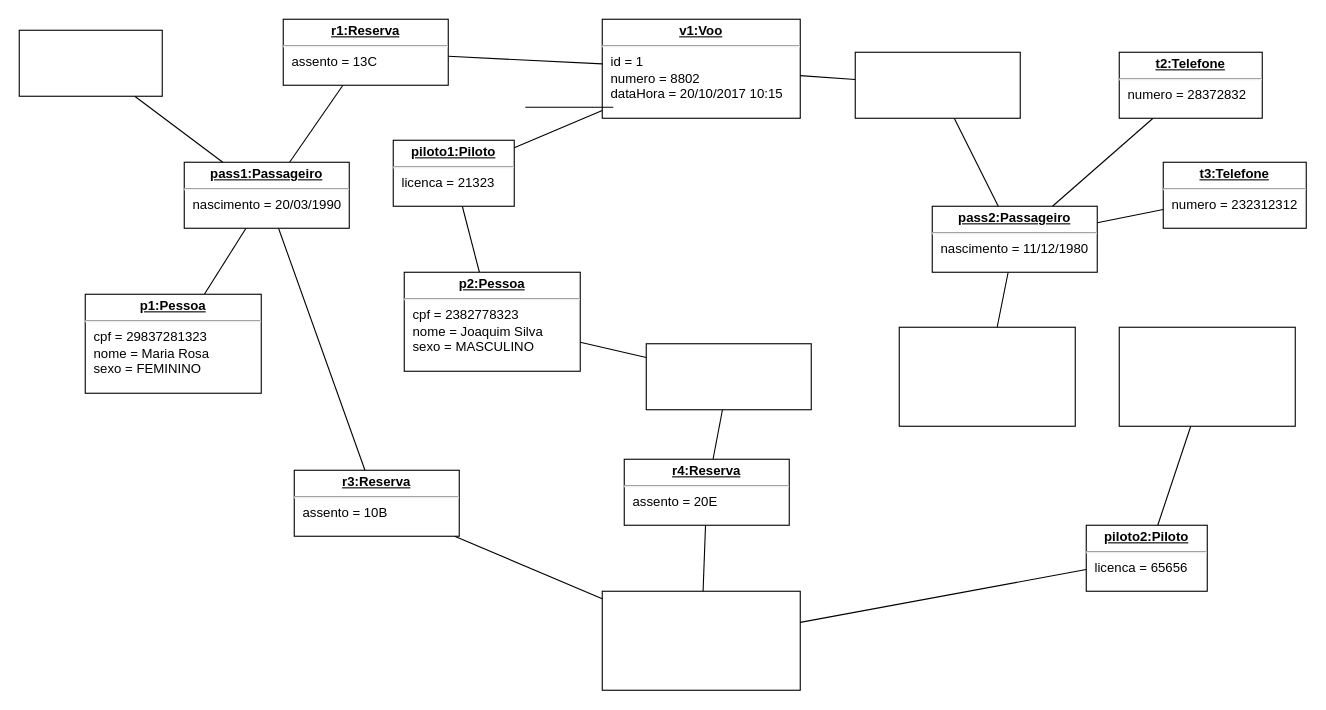
Some shapes in this 1326 by 710 pixel diagram are drawn without their labels. Here are the shapes that lost their labels. From the top down, the centre of each, then its label:
At pixel 90 62: "t1:Telefone numero = 23232323".
At pixel 937 84: "r2:Reserva assento = 15A".
At pixel 728 376: "pass3:Passageiro nascimento = 21/02/1978".
At pixel 986 376: "p3:Pessoa cpf = 2387627323 nome = Carlos Alberto sexo = MASCULINO".
At pixel 1206 376: "p4:Pessoa cpf = 287382732323 nome = Regina Marta sexo = FEMININO".
At pixel 700 640: "v2:Voo id = 2 numero = 8630 dataHora = 15/12/2017 06:30".
